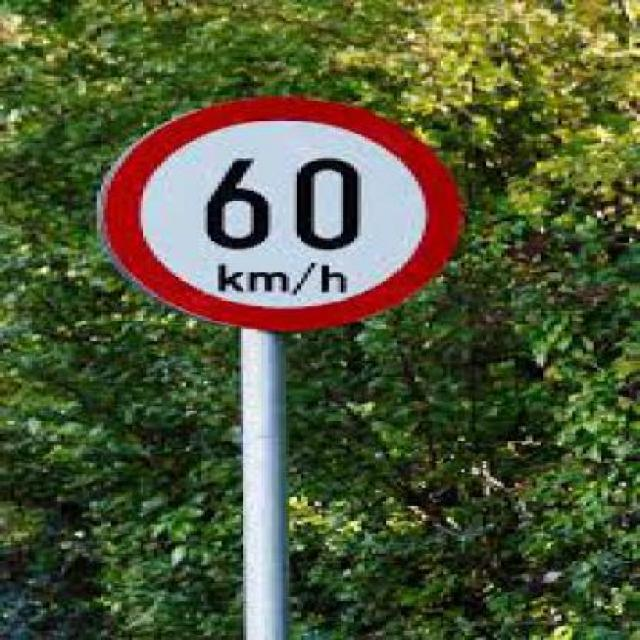traffic_sign: (107, 102, 458, 329)
